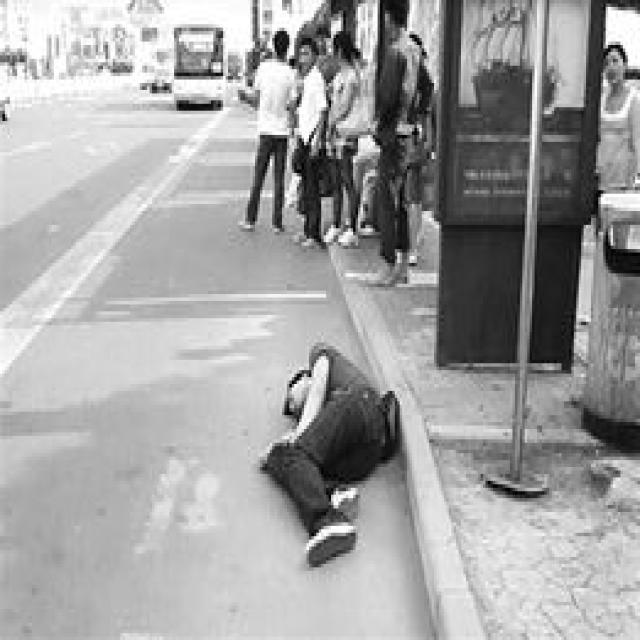nofight: (256, 324, 382, 572), (365, 0, 427, 284), (238, 30, 296, 243), (320, 42, 362, 254), (593, 31, 640, 201), (296, 39, 323, 160)
